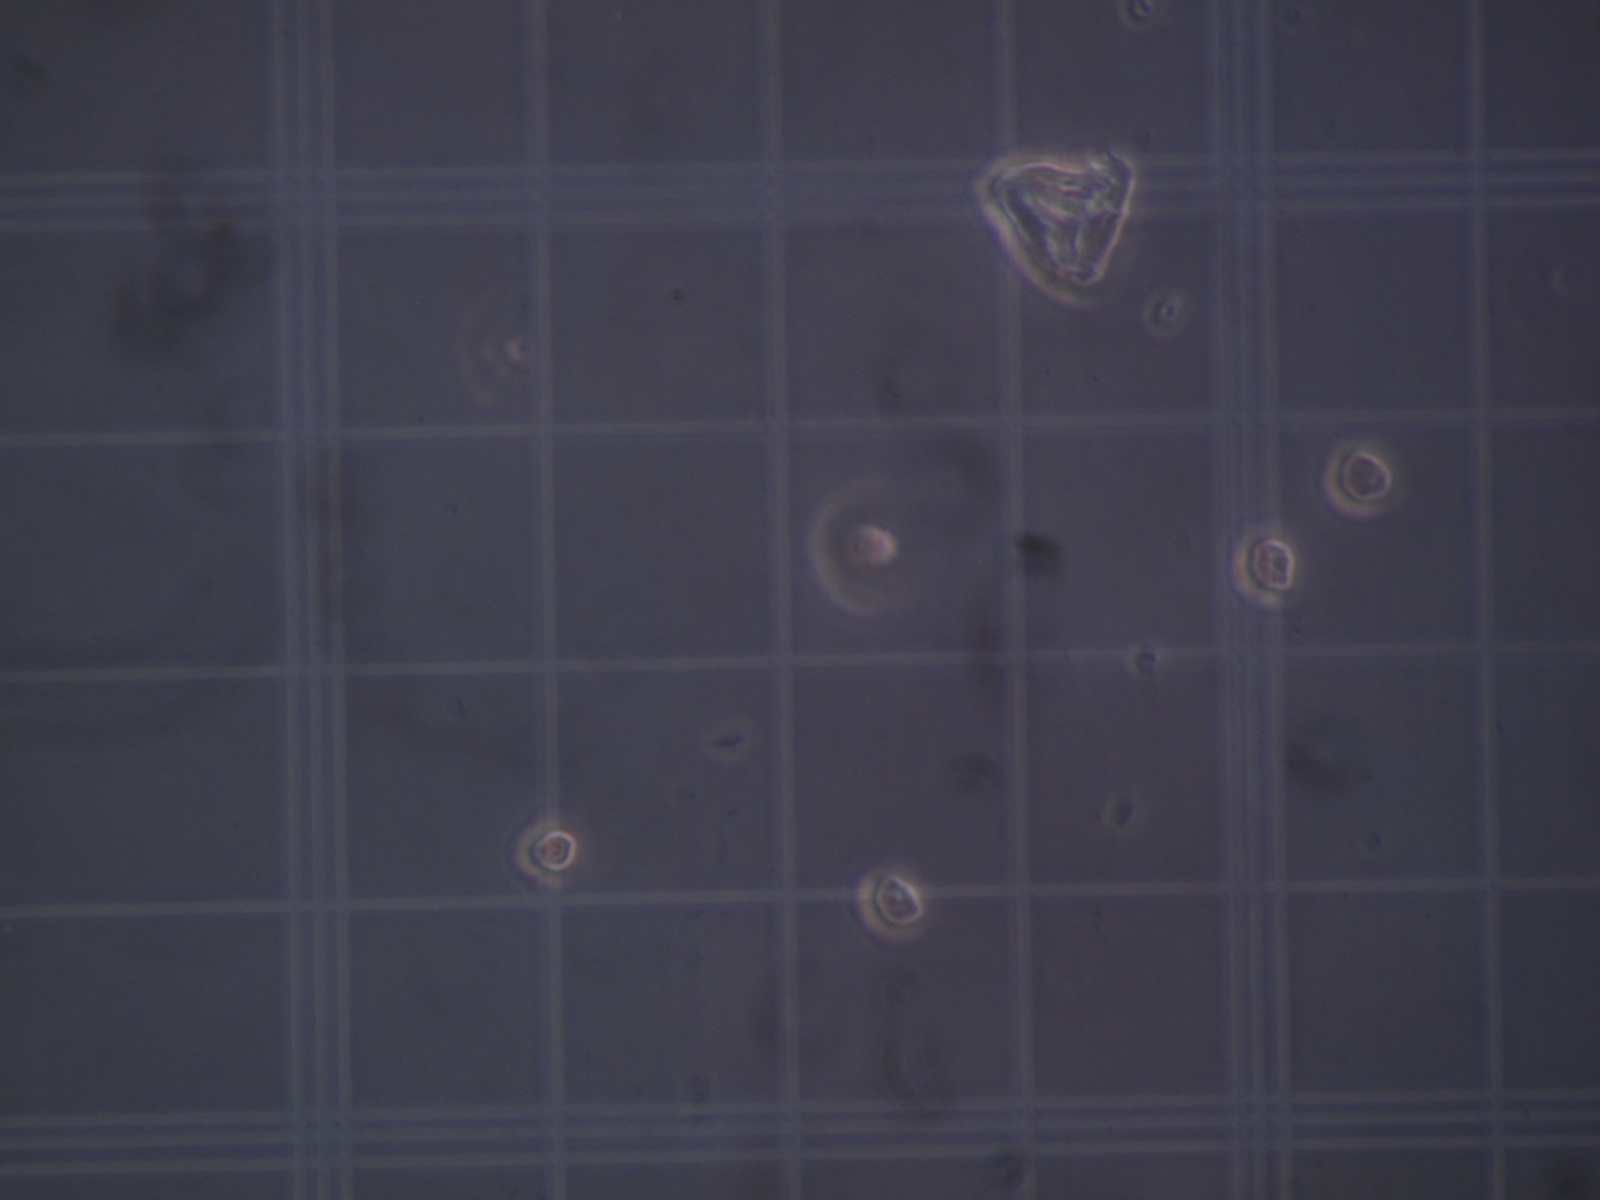hemo: (806, 485, 900, 616), (1232, 526, 1299, 609), (1322, 441, 1393, 517), (855, 868, 923, 942), (515, 819, 580, 887)
